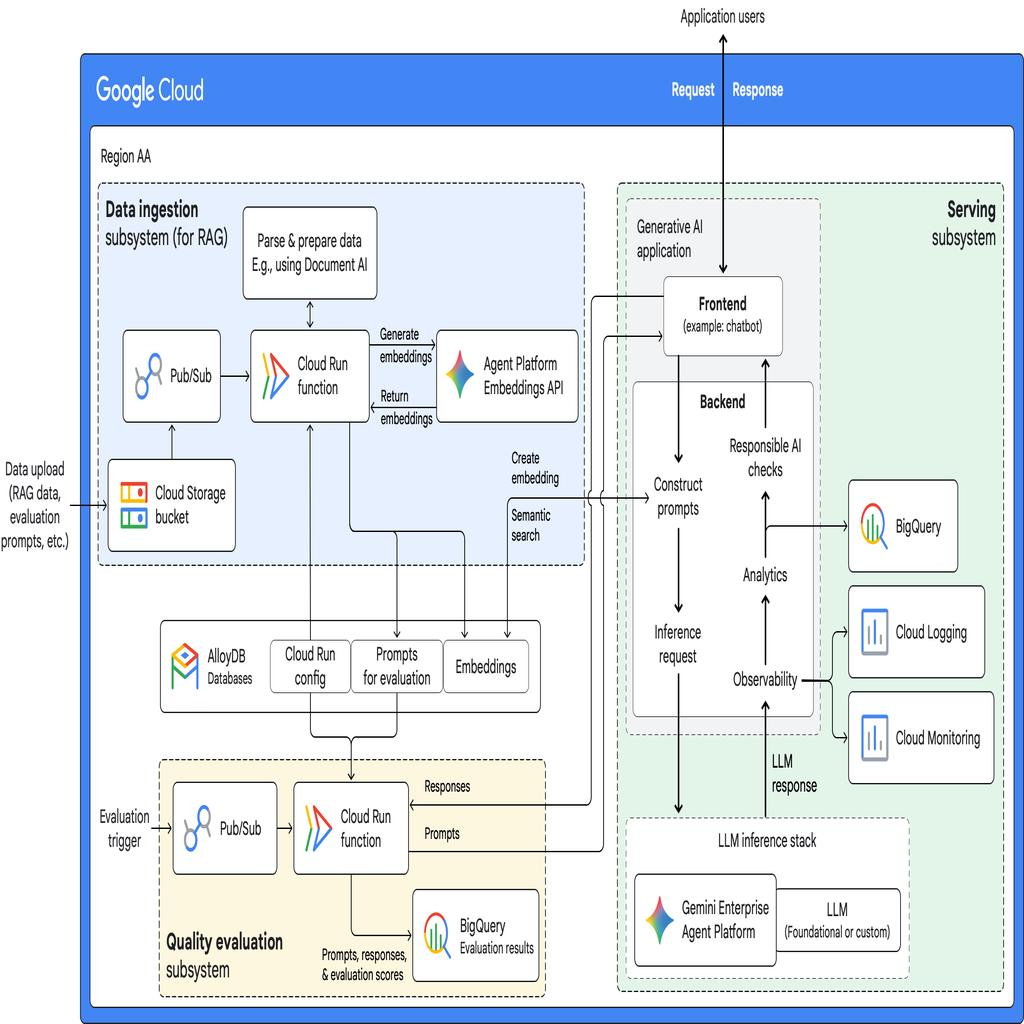api_gateway: (172, 782, 277, 872), (122, 332, 222, 422)
compute: (633, 872, 899, 962), (436, 332, 578, 422), (848, 585, 985, 675), (848, 692, 985, 782), (242, 206, 376, 296), (662, 270, 782, 360), (250, 332, 368, 422), (292, 782, 408, 872)
data_flow: (676, 448, 680, 806), (720, 46, 724, 271), (764, 656, 768, 870), (306, 430, 312, 563), (507, 494, 650, 499), (507, 535, 650, 540), (416, 802, 590, 806), (416, 848, 590, 852), (502, 512, 508, 614), (394, 512, 399, 614), (462, 512, 466, 614), (676, 361, 680, 448), (368, 351, 435, 356), (368, 397, 435, 402), (348, 873, 352, 929), (306, 294, 312, 330), (122, 825, 154, 830), (222, 374, 248, 380), (69, 500, 105, 504), (348, 730, 352, 766), (753, 522, 779, 527), (812, 735, 838, 740), (812, 628, 838, 632), (170, 436, 174, 456), (274, 825, 289, 830)
database_storage: (410, 878, 538, 968), (114, 454, 230, 550), (846, 480, 958, 570), (160, 622, 256, 689), (438, 622, 530, 689)
trust_boundary: (78, 20, 1024, 1004), (620, 179, 1008, 978), (96, 195, 584, 553), (618, 195, 820, 727), (156, 758, 544, 994), (627, 379, 811, 717), (622, 816, 910, 976)
